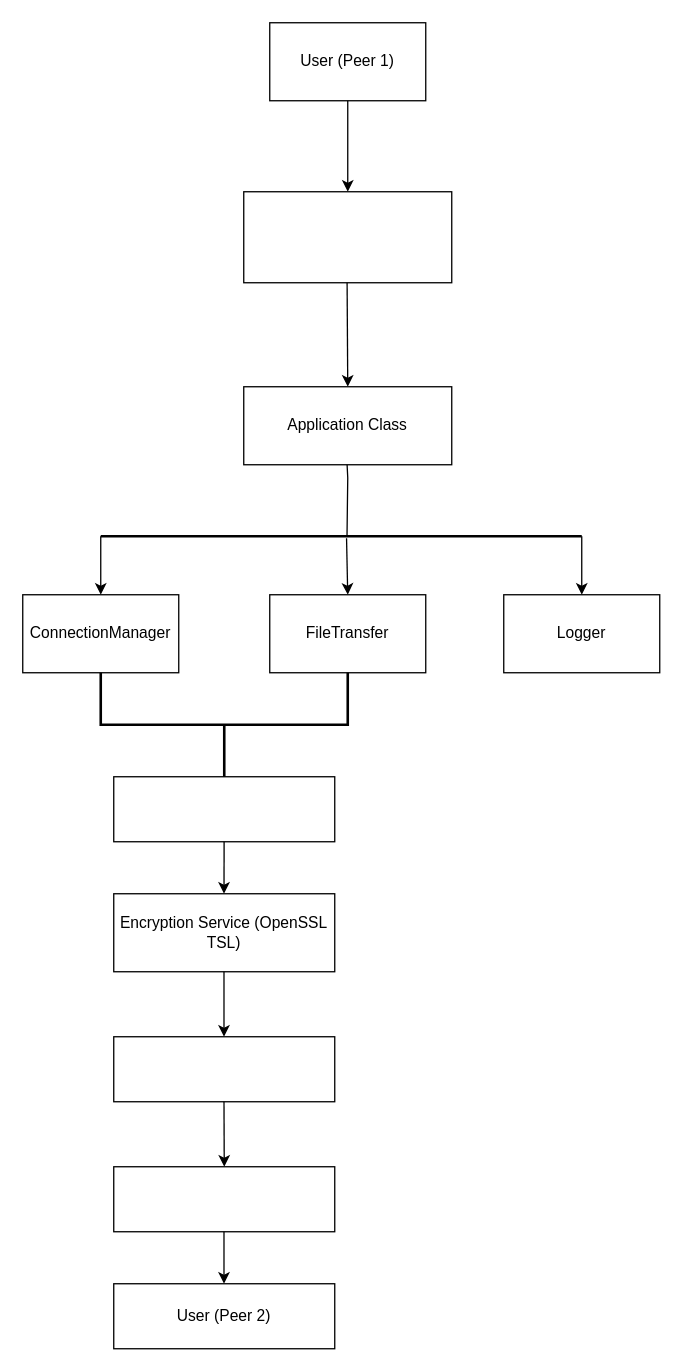
Some shapes in this 683 by 1372 pixel diagram are drawn without their labels. Here are the shapes that lost their labels. From the top down, the centre of each, then its label:
At (x=347, y=236): "ncurses Terminal".
At (x=223, y=808): "Message Serialiser".
At (x=223, y=1068): "Boost.Asio TCP".
At (x=223, y=1198): "Internet/LAN".
